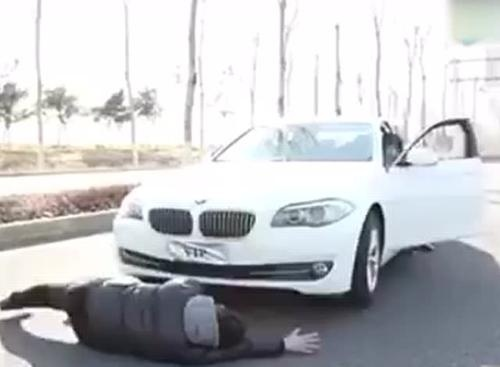falling: (2, 260, 323, 363)
